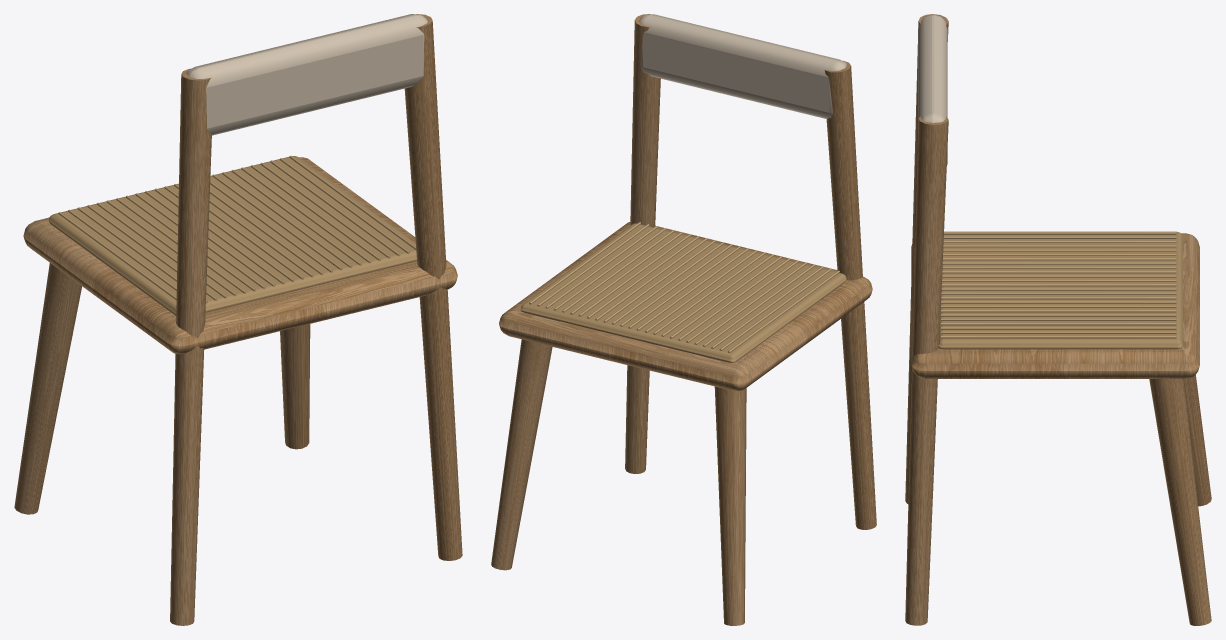
File: dining-chair.glb
The picture shows the model from 3 angles, left to right: view 1: azimuth 30°, elevation 25°; view 2: azimuth 150°, elevation 25°; view 3: azimuth 270°, elevation 25°; orthographic projection. The views are drawn at different scales.
Parts seen in each view (by area): view 1: Satin quarter-cut oak, Natural paper cord, Natural dining chair upholstery, Unbleached paper cord; view 2: Satin quarter-cut oak, Natural paper cord, Natural dining chair upholstery, Unbleached paper cord; view 3: Satin quarter-cut oak, Natural paper cord, Unbleached paper cord, Natural dining chair upholstery.
Boxes of the visible parts, x1,y1,x2,y2 form: Satin quarter-cut oak: [14, 14, 462, 625]; Natural paper cord: [48, 156, 416, 315]; Natural dining chair upholstery: [186, 14, 427, 135]; Unbleached paper cord: [58, 155, 416, 303]; Satin quarter-cut oak: [491, 14, 876, 625]; Natural paper cord: [520, 223, 846, 362]; Natural dining chair upholstery: [639, 14, 846, 118]; Unbleached paper cord: [529, 222, 839, 352]; Satin quarter-cut oak: [905, 14, 1211, 625]; Natural paper cord: [938, 231, 1182, 349]; Unbleached paper cord: [941, 232, 1176, 338]; Natural dining chair upholstery: [918, 14, 947, 166].
Bounding box in the file's own units: 0.4697 × 0.8343 × 0.4647.
Materials: 4 (1 with a texture image).
